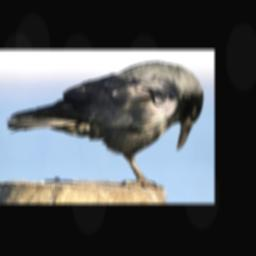Crow: (4, 60, 204, 200)
